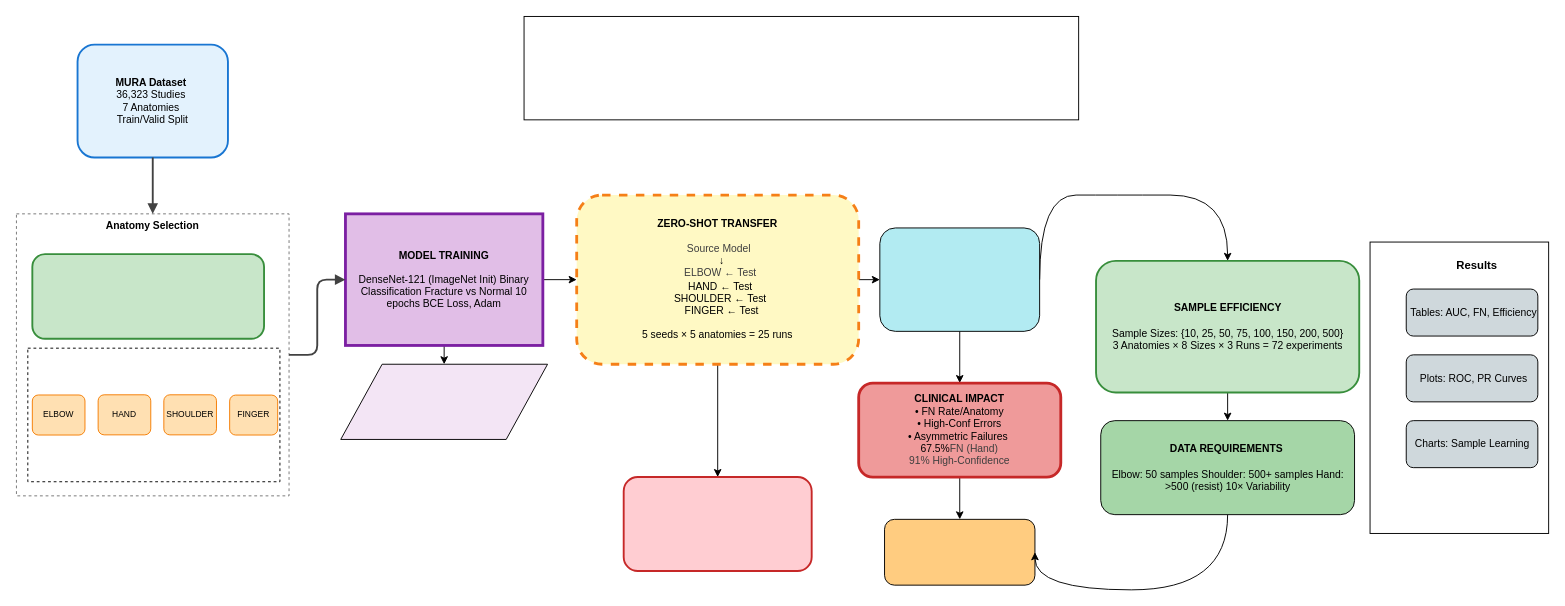
Image size: 1565x606. Some labels were removed from this diagram. Each missing label, with the box of its shape:
5 RANDOM SEEDS {42, 123, 456, 789, 2024} Robust Statistics: (340, 363, 548, 439)
Experimental Pipeline: (523, 16, 1079, 120)
METRICS • AUC-ROC • Sensitivity • Specificity • Precision/ Recall: (879, 227, 1040, 331)
OPERATING POINTS Thresholds: {0.3, 0.5, 0.7} Sens ↔ Spec Trade-off: (884, 518, 1035, 585)
SOURCE Wrist Train: 9,756 images Valid: 659images: (31, 253, 265, 339)
STATISTICAL TESTS • Paired t-tests • Bonferroni (α=0.0125) • Cohen's d • 95% CI: (622, 476, 812, 572)
TARGETS: (27, 347, 280, 482)
